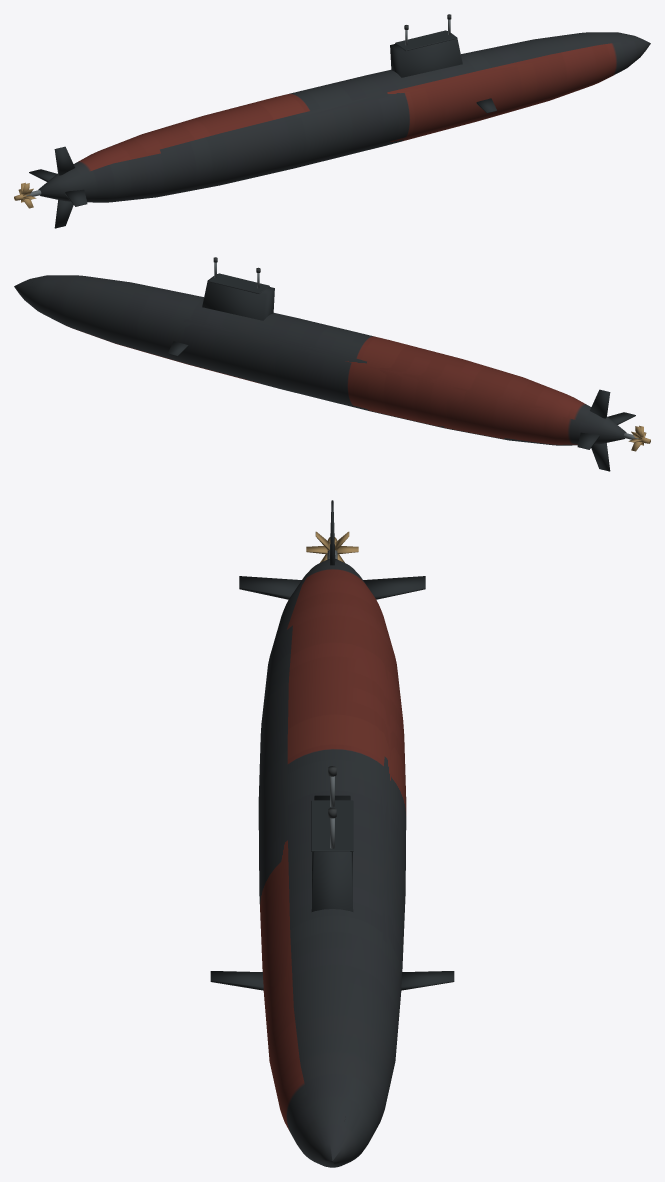
The model's file is US_SSN_Sturgeon_LOD2.fbx.
3 renders of one model, top to bottom at view 1: azimuth 30°, elevation 25°; view 2: azimuth 150°, elevation 25°; view 3: azimuth 270°, elevation 25°, orthographic. The views are drawn at different scales.
Visible parts, largest first — view 1: US_SSN_Sturgeon_LOD2; view 2: US_SSN_Sturgeon_LOD2; view 3: US_SSN_Sturgeon_LOD2.
Part boxes in pixels (box(x1,y1,x2,y2)): US_SSN_Sturgeon_LOD2: box(14, 14, 650, 228); US_SSN_Sturgeon_LOD2: box(14, 257, 650, 471); US_SSN_Sturgeon_LOD2: box(210, 500, 454, 1167).
Size of the model in its own units: 95.88 by 15.91 by 16.85.
Materials: 6 (1 with a texture image).
